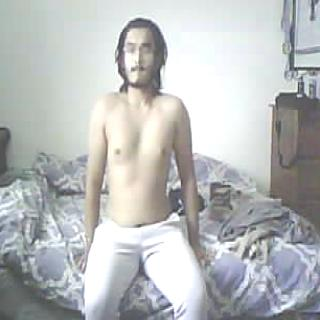White Sweatpants: (80, 218, 205, 320)
